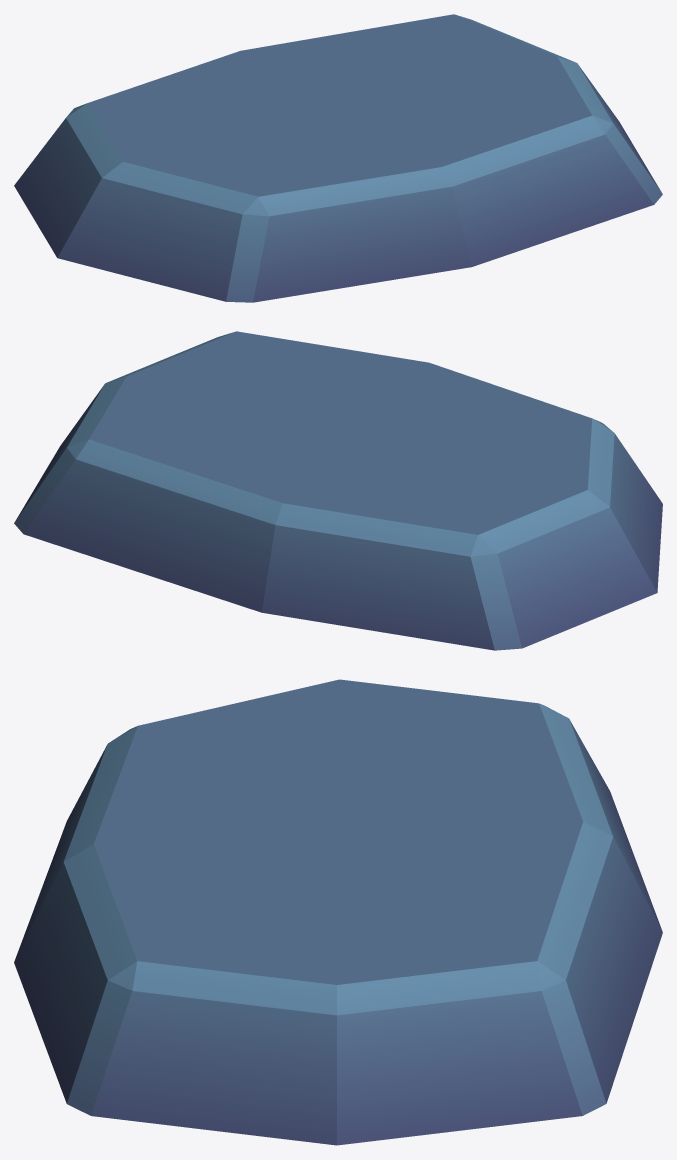
Rendered from Roadstones-3-6.fbx.
The picture shows the model from 3 angles, top to bottom: view 1: azimuth 30°, elevation 25°; view 2: azimuth 150°, elevation 25°; view 3: azimuth 270°, elevation 25°; orthographic projection. The views are drawn at different scales.
Visible parts, largest first — view 1: Roadstones-3-6; view 2: Roadstones-3-6; view 3: Roadstones-3-6.
Part boxes in pixels (x1,y1,x2,y2): Roadstones-3-6: [14, 14, 662, 302]; Roadstones-3-6: [14, 331, 662, 650]; Roadstones-3-6: [14, 679, 662, 1145].
Bounding box in the file's own units: 131 × 18.02 × 91.
